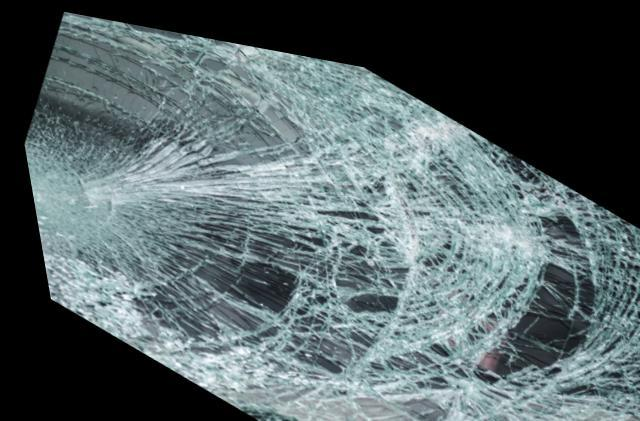glass shatter: (19, 9, 640, 421)
